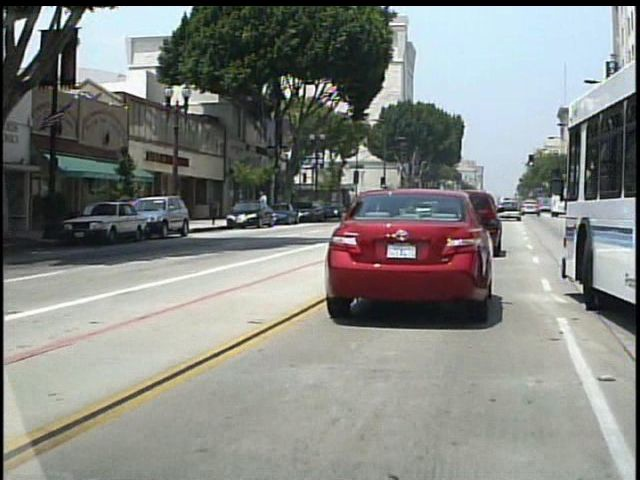person: (259, 190, 273, 224)
